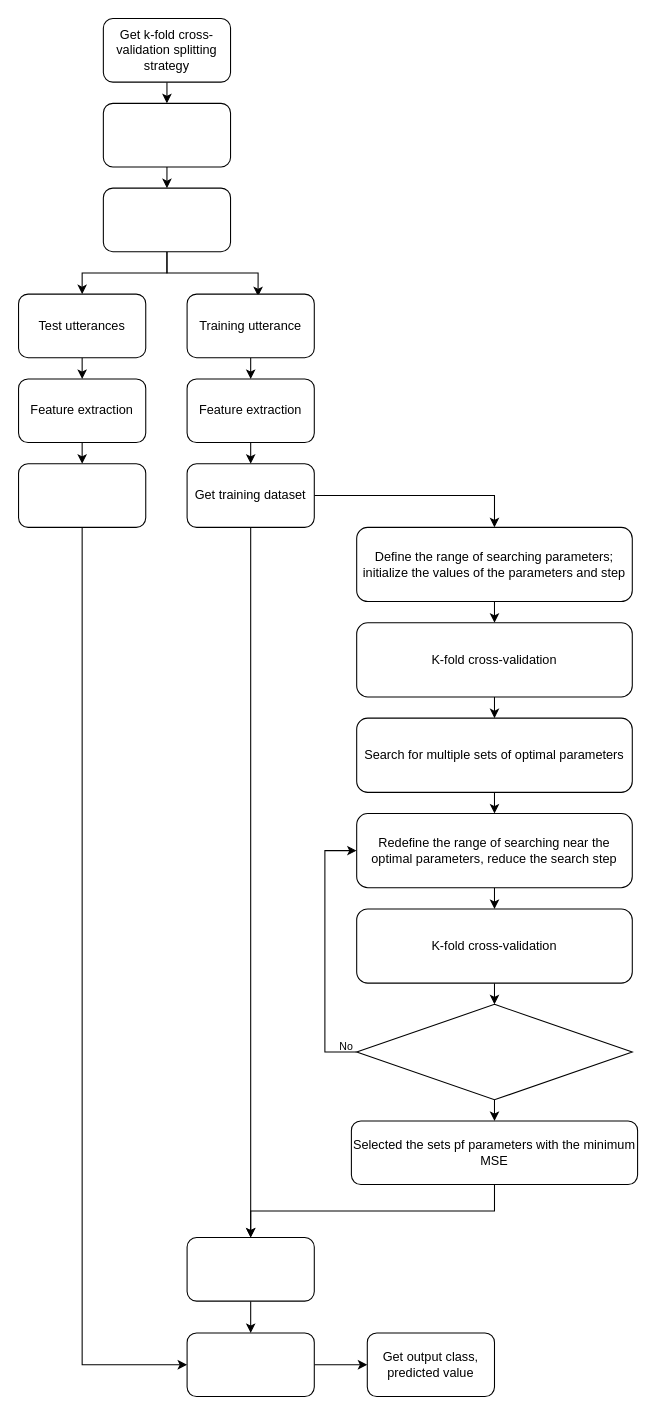
Some shapes in this 656 by 1415 pixel diagram are drawn without their labels. Each missing label, with the box of its shape:
Does MES and R 2 satisfies the accuracy?: (356, 1003, 632, 1100)
Get data samples: (102, 102, 231, 167)
Get test dataset: (17, 463, 146, 527)
Getting a Trained Model: (186, 1332, 314, 1397)
Model training: (186, 1236, 314, 1301)
Split data to test and training subsamples: (102, 187, 231, 252)
